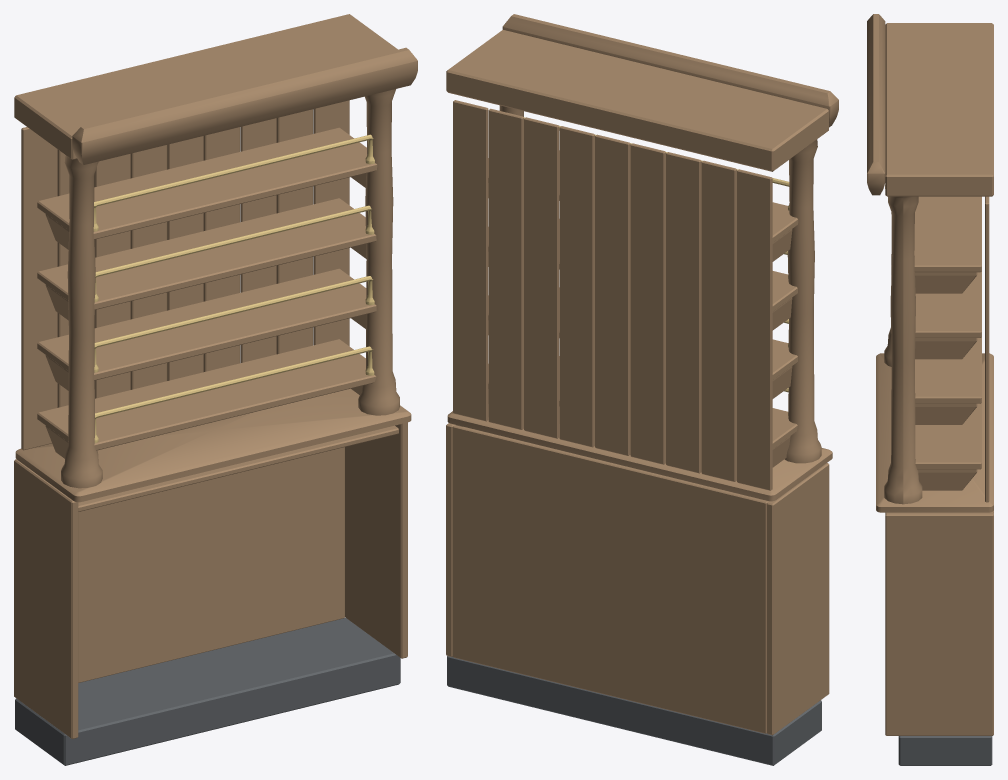
The model's file is bar-pub-and-brewery-taproom-back-bar-spirit-shelf-run-6d07bb41__18365.glb.
The picture shows the model from 3 angles, left to right: view 1: azimuth 30°, elevation 25°; view 2: azimuth 150°, elevation 25°; view 3: azimuth 270°, elevation 25°; orthographic projection. The views are drawn at different scales.
Visible parts, largest first — view 1: back-bar-spirit-shelf-run; view 2: back-bar-spirit-shelf-run; view 3: back-bar-spirit-shelf-run.
Boxes of the visible parts, <box> form: back-bar-spirit-shelf-run: <box>14,14,417,765</box>; back-bar-spirit-shelf-run: <box>446,14,838,765</box>; back-bar-spirit-shelf-run: <box>867,14,993,765</box>.
Bounding box in the file's own units: 1.2 × 2.2 × 0.42.
